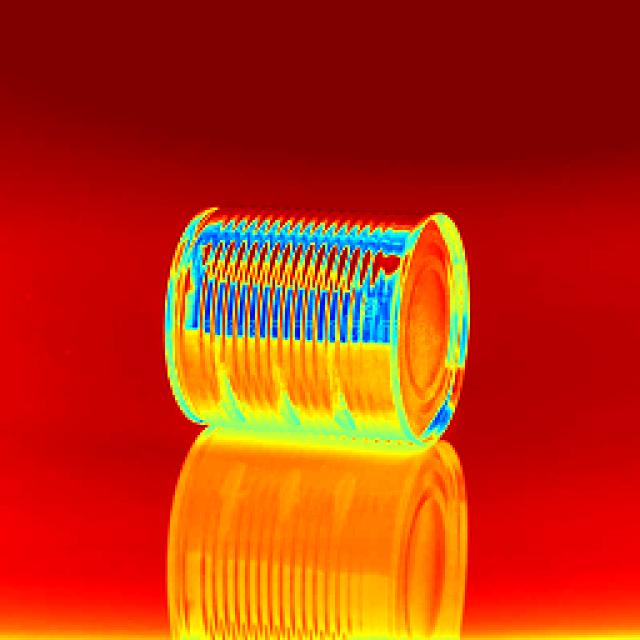Aluminium Food Cans: (150, 174, 484, 498)
